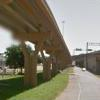Bridge: (9, 5, 71, 72)
